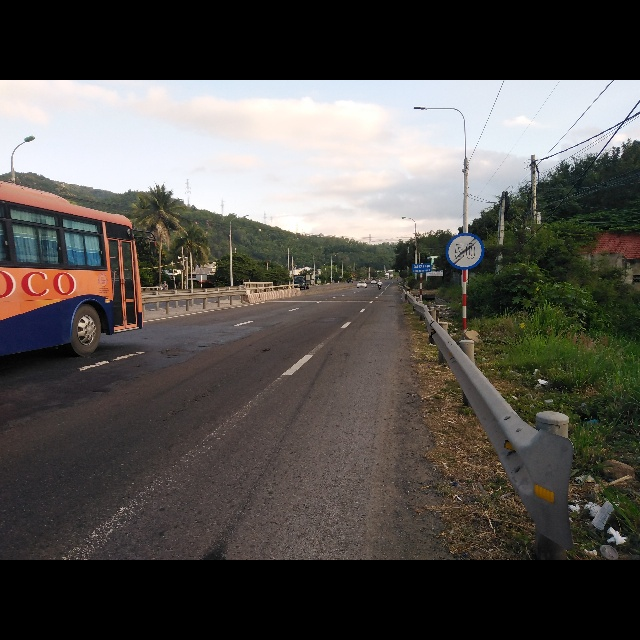Hết hạn chế tốc độ tối đa 50km/h: (445, 232, 487, 271)
